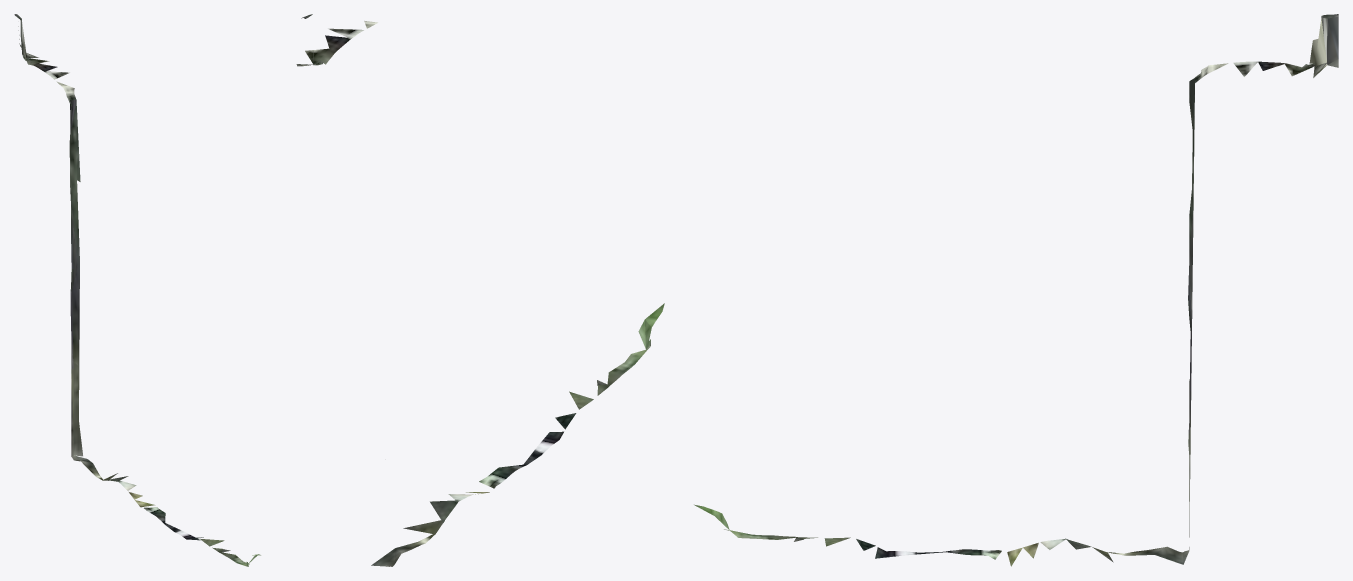
The model's file is Tile_000_003_L14_2442.glb.
The picture shows the model from 3 angles, left to right: view 1: azimuth 30°, elevation 25°; view 2: azimuth 150°, elevation 25°; view 3: azimuth 270°, elevation 25°; orthographic projection. The views are drawn at different scales.
Parts seen in each view (by area): view 1: rtc; view 2: rtc; view 3: rtc.
Part boxes in pixels (x1=…): rtc: x1=14, y1=14, x2=260, y2=566; rtc: x1=296, y1=14, x2=664, y2=566; rtc: x1=694, y1=14, x2=1338, y2=566.
Bounding box in the file's own units: 2.82 × 52 × 56.17.
Materials: 1 (1 with a texture image).
